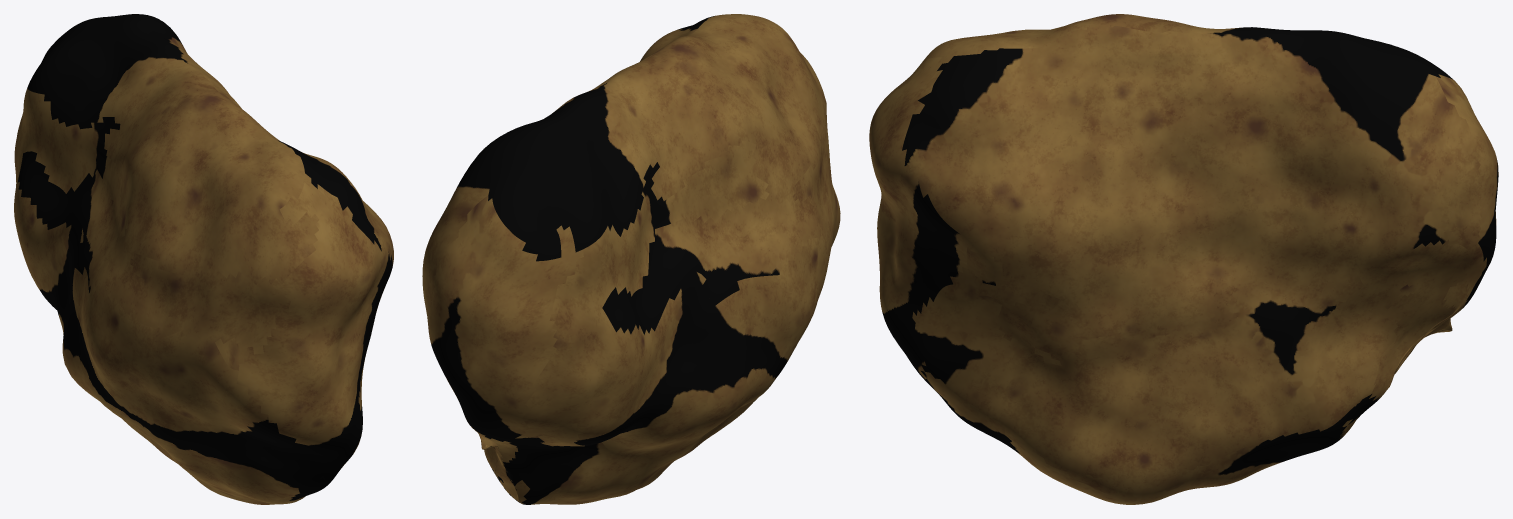
The picture shows the model from 3 angles, left to right: view 1: azimuth 30°, elevation 25°; view 2: azimuth 150°, elevation 25°; view 3: azimuth 270°, elevation 25°; orthographic projection. The views are drawn at different scales.
Visible parts, largest first — view 1: original_ico.015; view 2: original_ico.015; view 3: original_ico.015.
Boxes of the visible parts, x1,y1,x2,y2 form: original_ico.015: [14, 14, 393, 504]; original_ico.015: [422, 14, 840, 504]; original_ico.015: [869, 14, 1498, 504].
Bounding box in the file's own units: 1.96 × 3.25 × 4.08.
